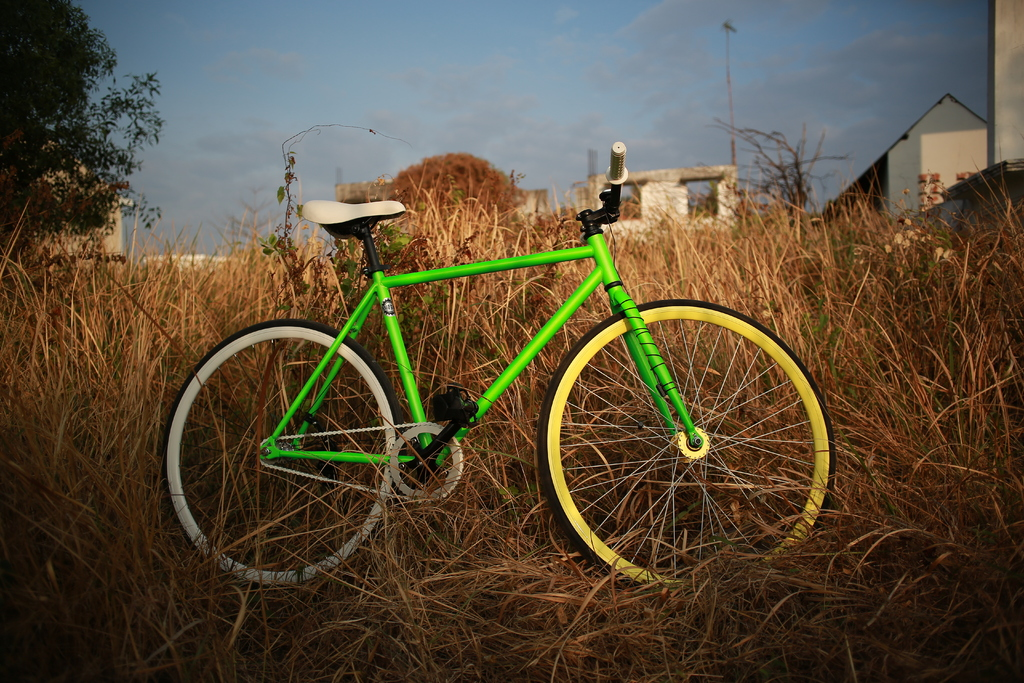Bike: (125, 152, 845, 584)
